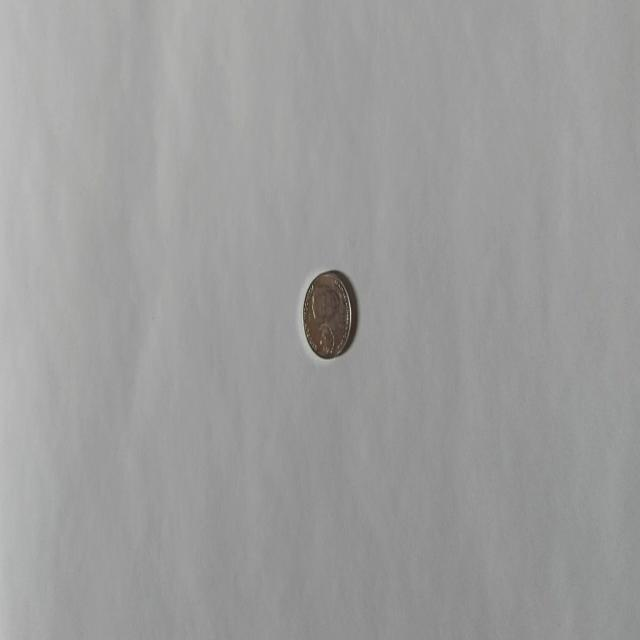seratus rupiah: (302, 269, 352, 359)
